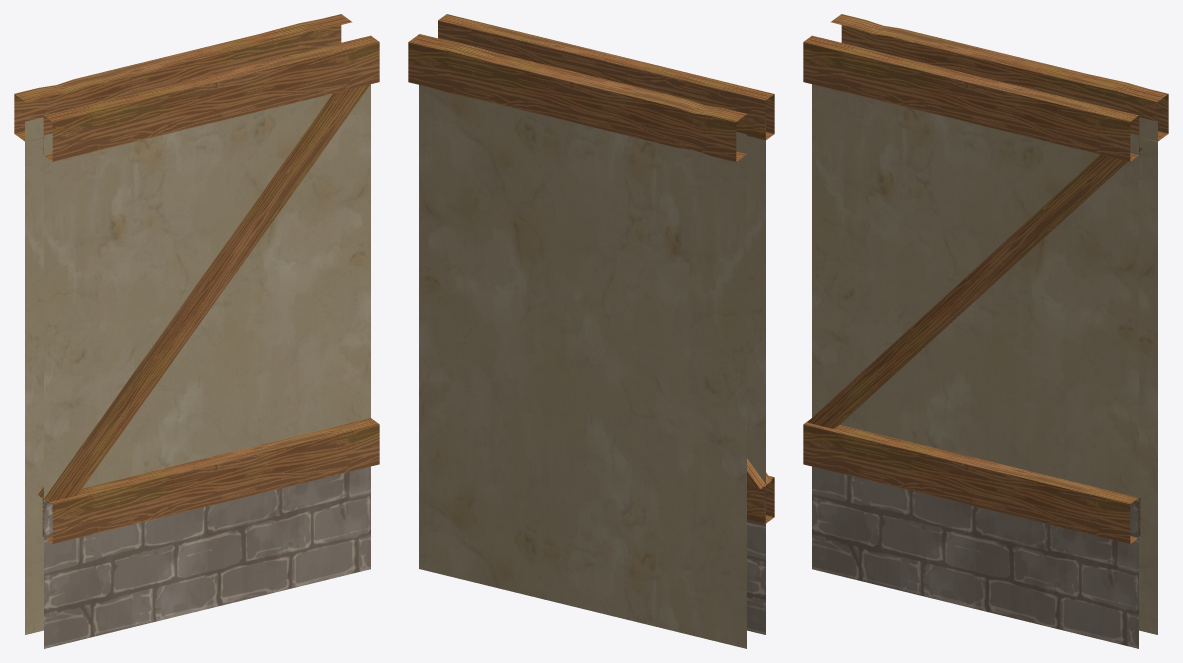
Rendered from Wall_Plaster_Straight_R.gltf.
The picture shows the model from 3 angles, left to right: view 1: azimuth 30°, elevation 25°; view 2: azimuth 150°, elevation 25°; view 3: azimuth 330°, elevation 25°; orthographic projection.
Parts seen in each view (by area): view 1: Wall_Plaster_Straight_R; view 2: Wall_Plaster_Straight_R; view 3: Wall_Plaster_Straight_R.
Boxes of the visible parts, <box> form: Wall_Plaster_Straight_R: <box>14,14,379,648</box>; Wall_Plaster_Straight_R: <box>408,14,774,648</box>; Wall_Plaster_Straight_R: <box>803,14,1168,648</box>.
Size of the model in its own units: 2 by 3.12 by 0.4065.
Materials: 3 (3 with a texture image).
